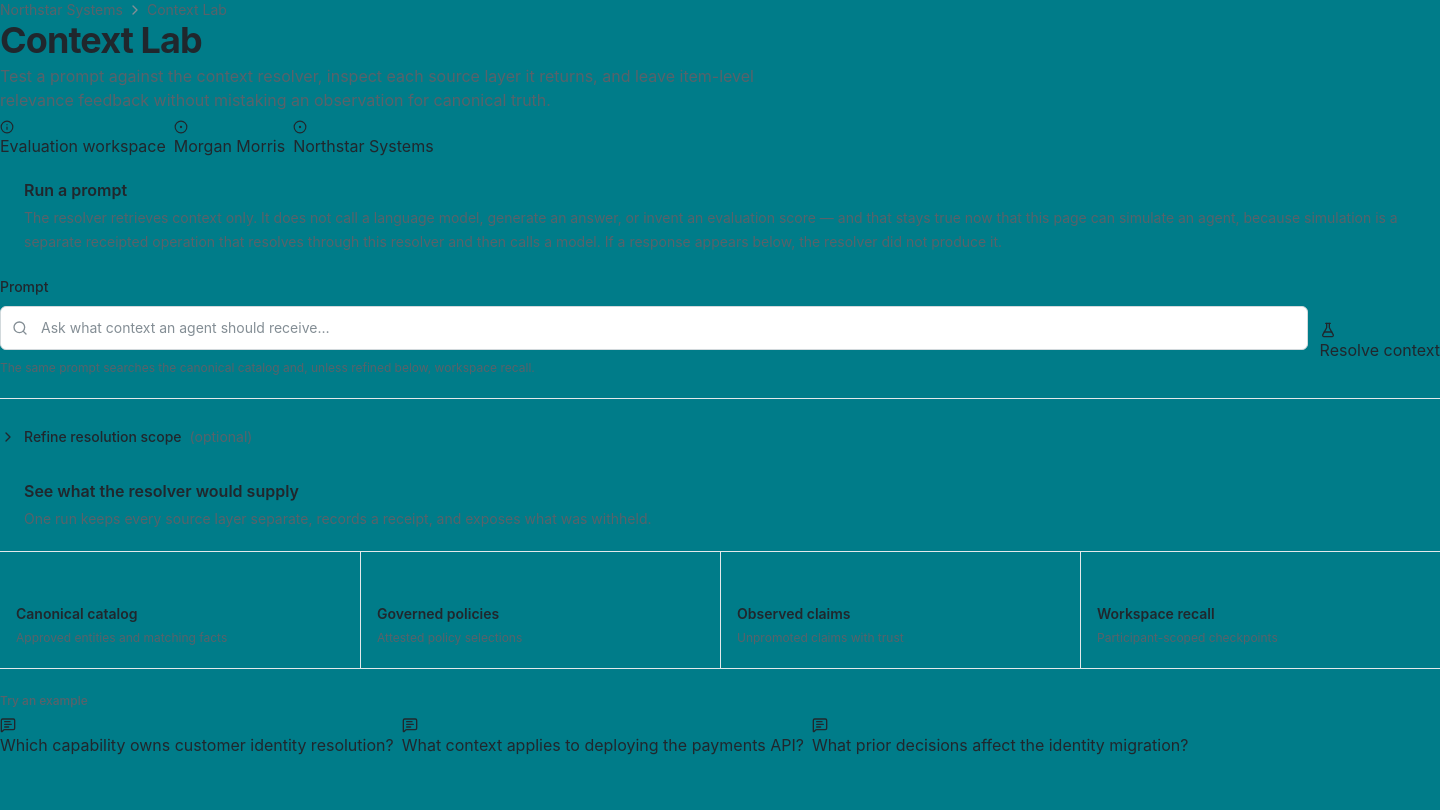
Test: ContextLabPage › lists undeclared principals rather than filtering them out
Type "Who owns identity resolution?" into the field labelled "Prompt".
click(654, 328); type("Who owns identity resolution?")  # box [0,306,1308,350]
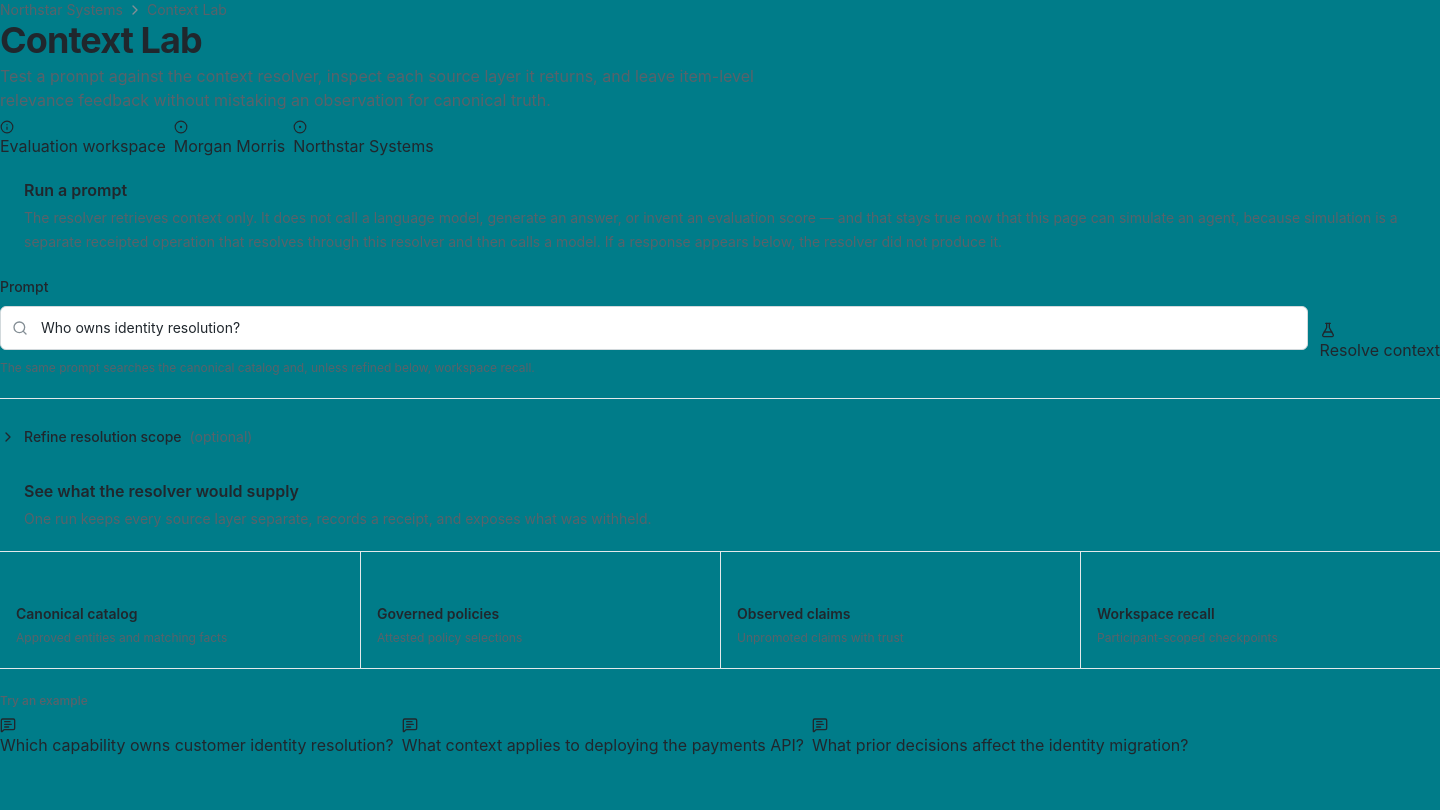
Click the button "Resolve context".
click(1380, 342)  # box [1320,306,1439,378]
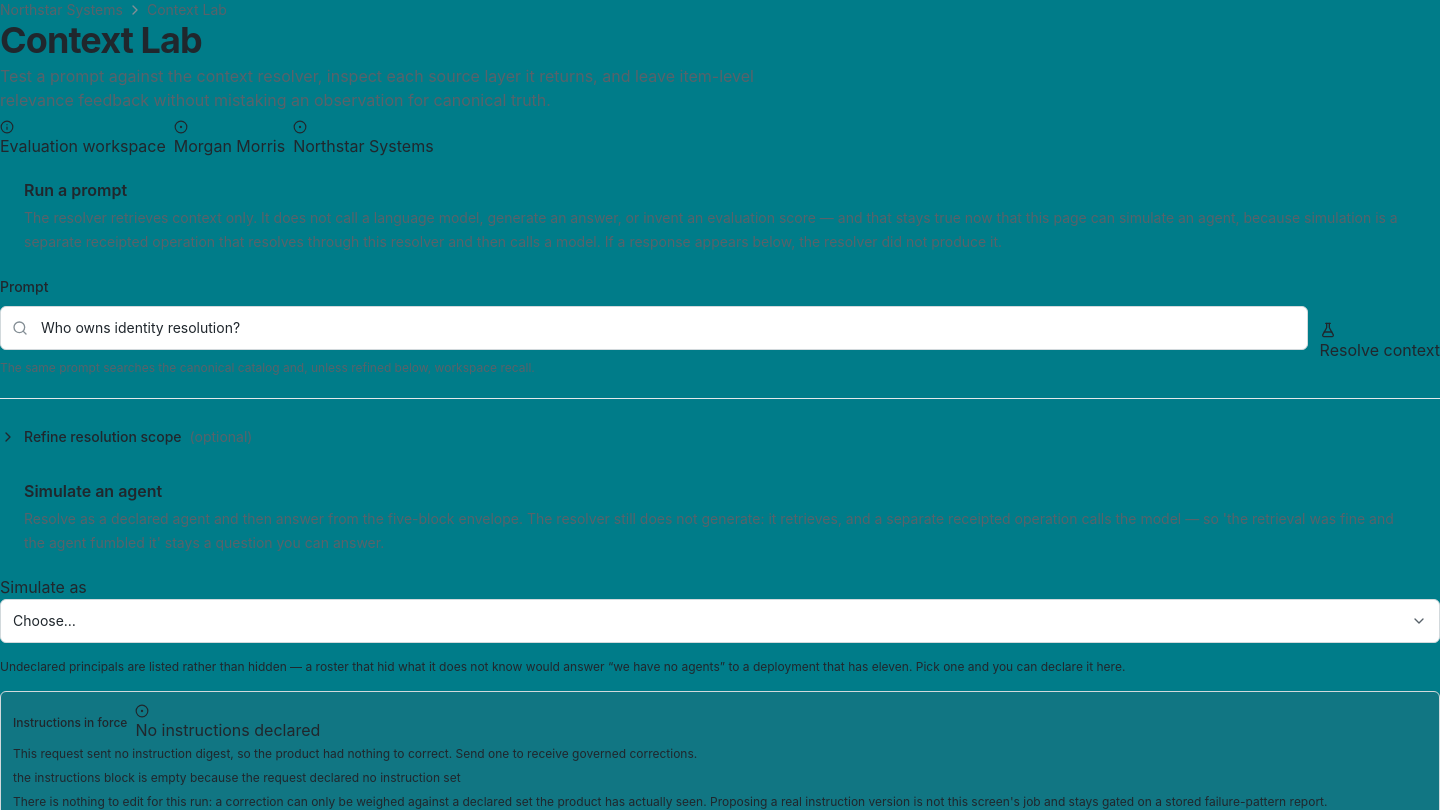
Click the button with aria-label "Simulate as".
click(44, 620)  # box [0,599,1439,643]
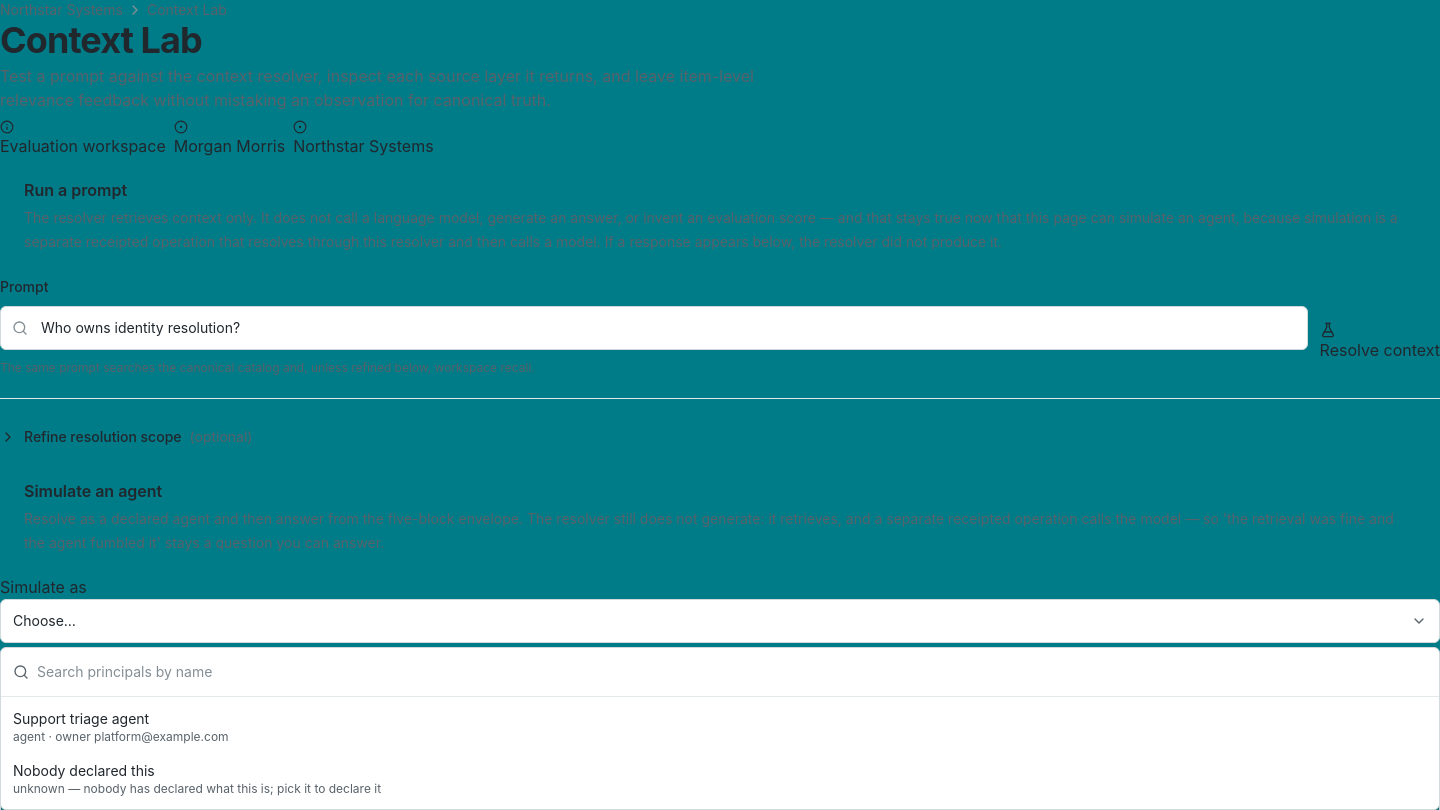
Expected: the option "Support triage agent agent · owner platform@example.com" is shown, [1,701,1439,753]
Expected: the option "Nobody declared this" is shown, [1,753,1439,805]
Expected: the text "pick it to declare it" is shown, [13,781,381,796]
